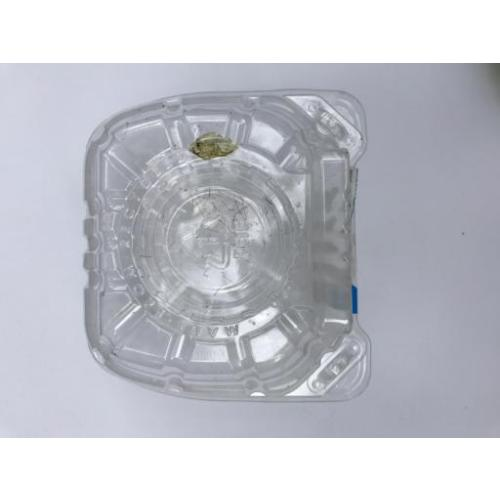plastic: (89, 89, 366, 401)
